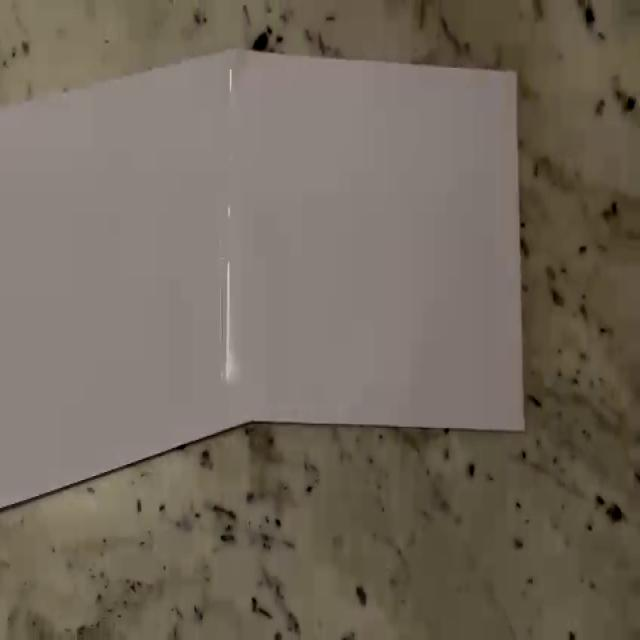road: (0, 48, 527, 511)
